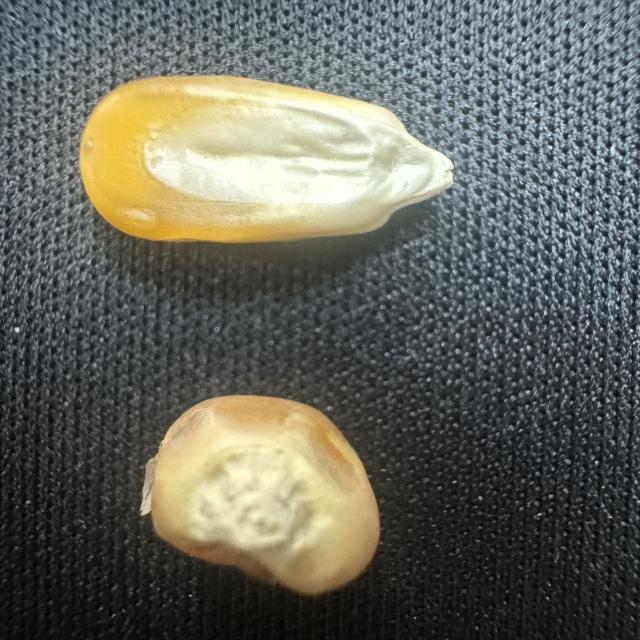Bad-Seed: (132, 383, 402, 606)
Good-Seed: (70, 62, 463, 263)
